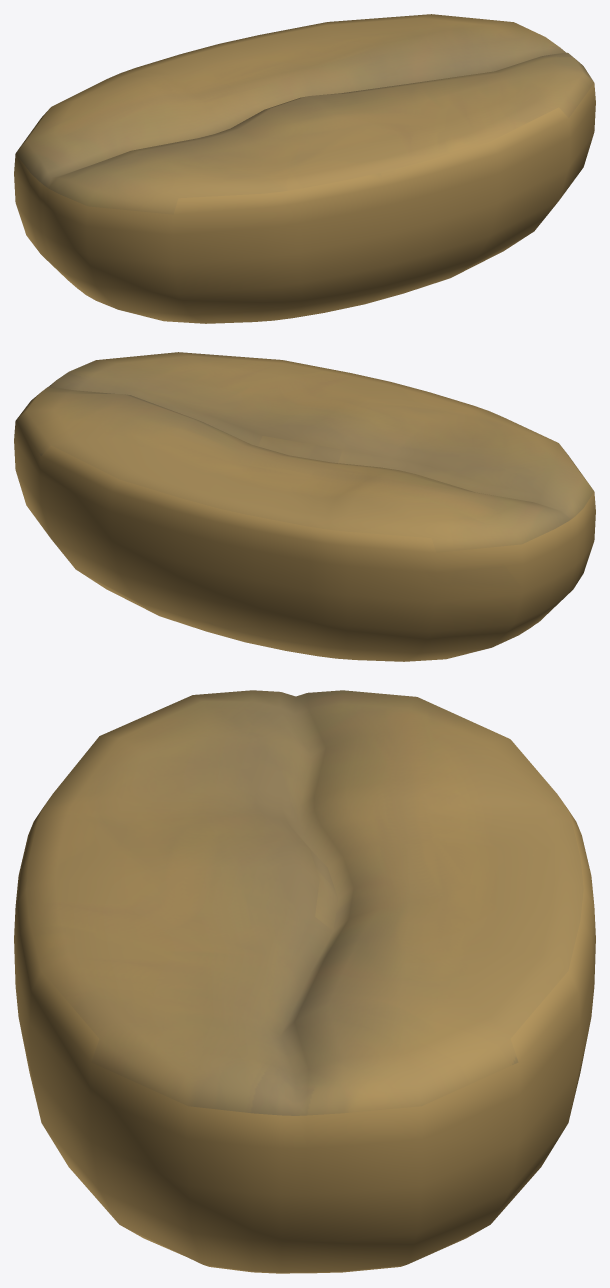
The model's file is model_Cafe-Descascado_01.fbx.
The picture shows the model from 3 angles, top to bottom: view 1: azimuth 30°, elevation 25°; view 2: azimuth 150°, elevation 25°; view 3: azimuth 270°, elevation 25°; orthographic projection. The views are drawn at different scales.
Visible parts, largest first — view 1: Cafe Descascado; view 2: Cafe Descascado; view 3: Cafe Descascado.
Part boxes in pixels (x1,y1,x2,y2): Cafe Descascado: [14, 14, 595, 323]; Cafe Descascado: [14, 352, 595, 661]; Cafe Descascado: [14, 690, 595, 1273].
Size of the model in its own units: 0.9719 by 0.329 by 0.5718.
Materials: 1 (1 with a texture image).
